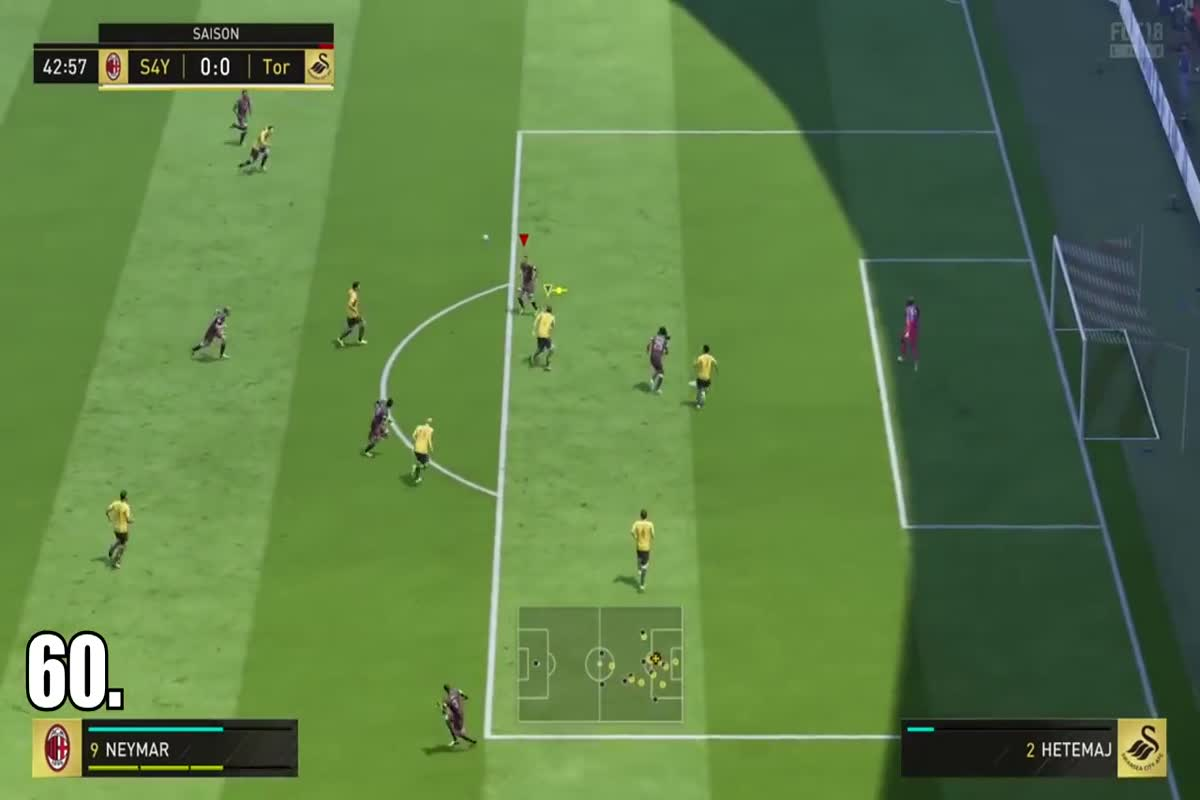ball: (474, 228, 500, 246)
